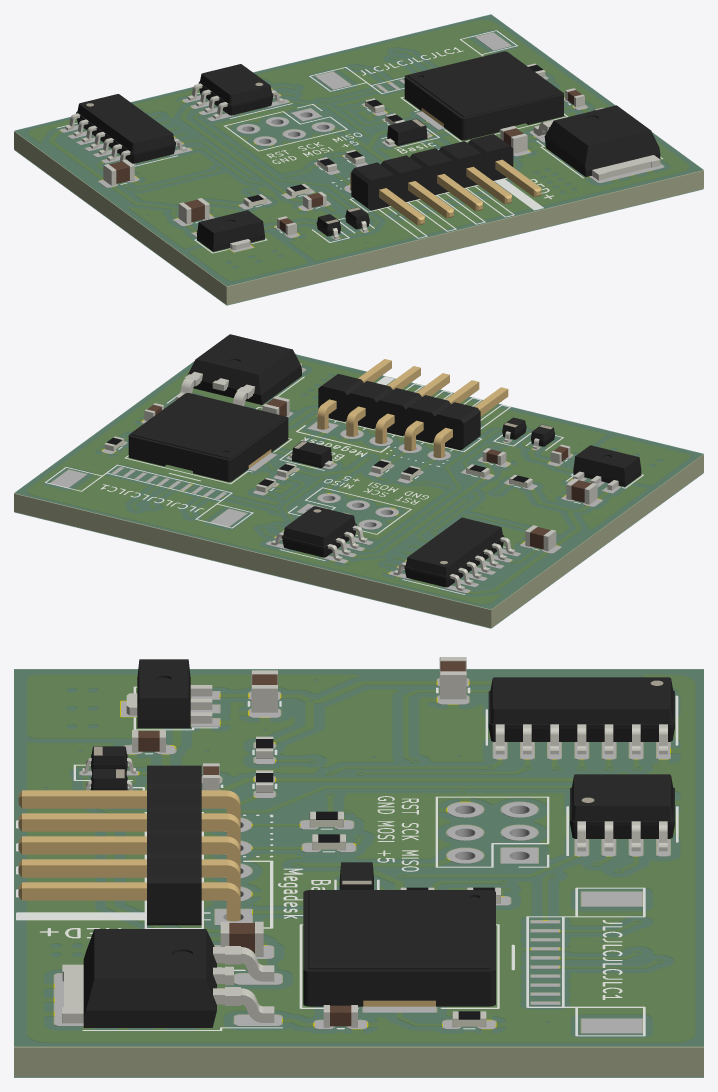
Rendered from board.glb.
3 views of the same model, one above another, from view 1: azimuth 30°, elevation 25°; view 2: azimuth 150°, elevation 25°; view 3: azimuth 270°, elevation 25° (orthographic). The views are drawn at different scales.
Visible parts, largest first — view 1: board_soldermask (×2), board_PCB, board_copper, Buzzer_Murata_PKMCS0909E4000_R1, PinHeader_1x05_P254mm_Horizontal, 932d09b3-9c39-11ed-93f0-dde97e994e83_part, SOIC-14_3.9x8.7mm_P1.27mm, board_pad, board_silkscreen, SOIC-8_3.9x4.9mm_P1.27mm, adbeea57-9c39-11ed-93f0-dde97e994e83_part, C_0805_2012Metric (×3) (+2 smaller); view 2: board_soldermask (×2), board_PCB, board_copper, PinHeader_1x05_P254mm_Horizontal, Buzzer_Murata_PKMCS0909E4000_R1, 932d09b3-9c39-11ed-93f0-dde97e994e83_part, SOIC-14_3.9x8.7mm_P1.27mm, board_pad, board_silkscreen, SOIC-8_3.9x4.9mm_P1.27mm, adbeea57-9c39-11ed-93f0-dde97e994e83_part, C_0805_2012Metric (×2) (+2 smaller); view 3: board_soldermask (×2), board_copper, board_PCB, PinHeader_1x05_P254mm_Horizontal, Buzzer_Murata_PKMCS0909E4000_R1, board_pad, SOIC-14_3.9x8.7mm_P1.27mm, 932d09b3-9c39-11ed-93f0-dde97e994e83_part, board_silkscreen, SOIC-8_3.9x4.9mm_P1.27mm, adbeea57-9c39-11ed-93f0-dde97e994e83_part, C_0805_2012Metric (×3) (+6 smaller).
Boxes of the visible parts, x1=… form: board_soldermask (×2): x1=14, y1=14, x2=703, y2=305; board_PCB: x1=14, y1=15, x2=703, y2=304; board_copper: x1=29, y1=20, x2=688, y2=280; Buzzer_Murata_PKMCS0909E4000_R1: x1=404, y1=51, x2=563, y2=140; PinHeader_1x05_P254mm_Horizontal: x1=350, y1=134, x2=541, y2=225; 932d09b3-9c39-11ed-93f0-dde97e994e83_part: x1=544, y1=105, x2=660, y2=176; SOIC-14_3.9x8.7mm_P1.27mm: x1=65, y1=94, x2=186, y2=163; board_pad: x1=60, y1=32, x2=663, y2=252; board_silkscreen: x1=57, y1=30, x2=662, y2=253; SOIC-8_3.9x4.9mm_P1.27mm: x1=187, y1=64, x2=284, y2=118; adbeea57-9c39-11ed-93f0-dde97e994e83_part: x1=197, y1=210, x2=264, y2=251; C_0805_2012Metric (×3): x1=103, y1=126, x2=527, y2=223; board_soldermask (×2): x1=14, y1=354, x2=703, y2=628; board_PCB: x1=14, y1=355, x2=703, y2=627; board_copper: x1=28, y1=359, x2=689, y2=603; PinHeader_1x05_P254mm_Horizontal: x1=317, y1=359, x2=508, y2=457; Buzzer_Murata_PKMCS0909E4000_R1: x1=128, y1=393, x2=288, y2=481; 932d09b3-9c39-11ed-93f0-dde97e994e83_part: x1=187, y1=334, x2=301, y2=404; SOIC-14_3.9x8.7mm_P1.27mm: x1=393, y1=517, x2=515, y2=590; board_pad: x1=51, y1=368, x2=620, y2=593; board_silkscreen: x1=45, y1=376, x2=643, y2=594; SOIC-8_3.9x4.9mm_P1.27mm: x1=271, y1=506, x2=367, y2=561; adbeea57-9c39-11ed-93f0-dde97e994e83_part: x1=573, y1=445, x2=641, y2=486; C_0805_2012Metric (×2): x1=525, y1=478, x2=597, y2=551; board_soldermask (×2): x1=14, y1=669, x2=703, y2=1077; board_copper: x1=27, y1=675, x2=694, y2=1042; board_PCB: x1=14, y1=670, x2=703, y2=1076; PinHeader_1x05_P254mm_Horizontal: x1=18, y1=765, x2=240, y2=925; Buzzer_Murata_PKMCS0909E4000_R1: x1=303, y1=890, x2=495, y2=1006; board_pad: x1=54, y1=678, x2=669, y2=1033; SOIC-14_3.9x8.7mm_P1.27mm: x1=488, y1=677, x2=674, y2=754; 932d09b3-9c39-11ed-93f0-dde97e994e83_part: x1=83, y1=929, x2=216, y2=1027; board_silkscreen: x1=16, y1=686, x2=678, y2=1036; SOIC-8_3.9x4.9mm_P1.27mm: x1=570, y1=774, x2=674, y2=851; adbeea57-9c39-11ed-93f0-dde97e994e83_part: x1=137, y1=659, x2=190, y2=728; C_0805_2012Metric (×3): x1=220, y1=657, x2=466, y2=956.
Bounding box in the file's own units: 0.0417 × 0.00554 × 0.0322.
